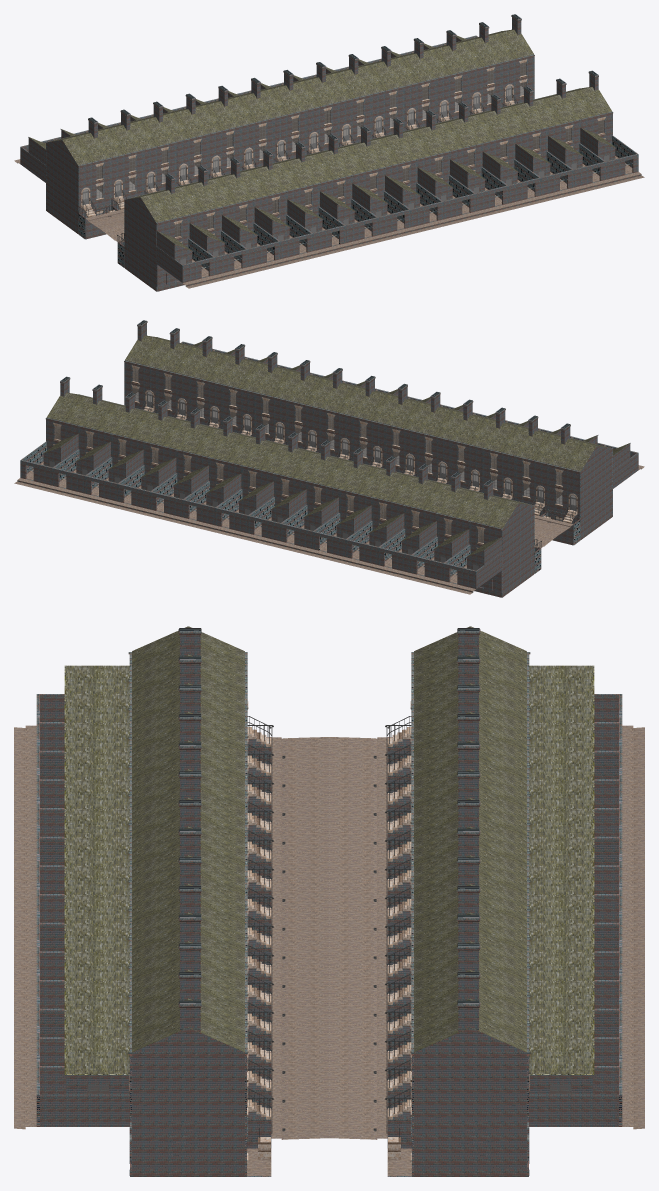
Rendered from terrace.fbx.
3 renders of one model, top to bottom at view 1: azimuth 30°, elevation 25°; view 2: azimuth 150°, elevation 25°; view 3: azimuth 270°, elevation 25°, orthographic. The views are drawn at different scales.
Visible parts, largest first — view 1: arch.000; view 2: arch.000; view 3: arch.000.
Part boxes in pixels (x1,y1,x2,y2): arch.000: [14, 14, 644, 291]; arch.000: [14, 320, 644, 597]; arch.000: [14, 626, 644, 1176].
Size of the model in its own units: 9231 by 1853 by 6134.
Materials: 8 (4 with a texture image).
